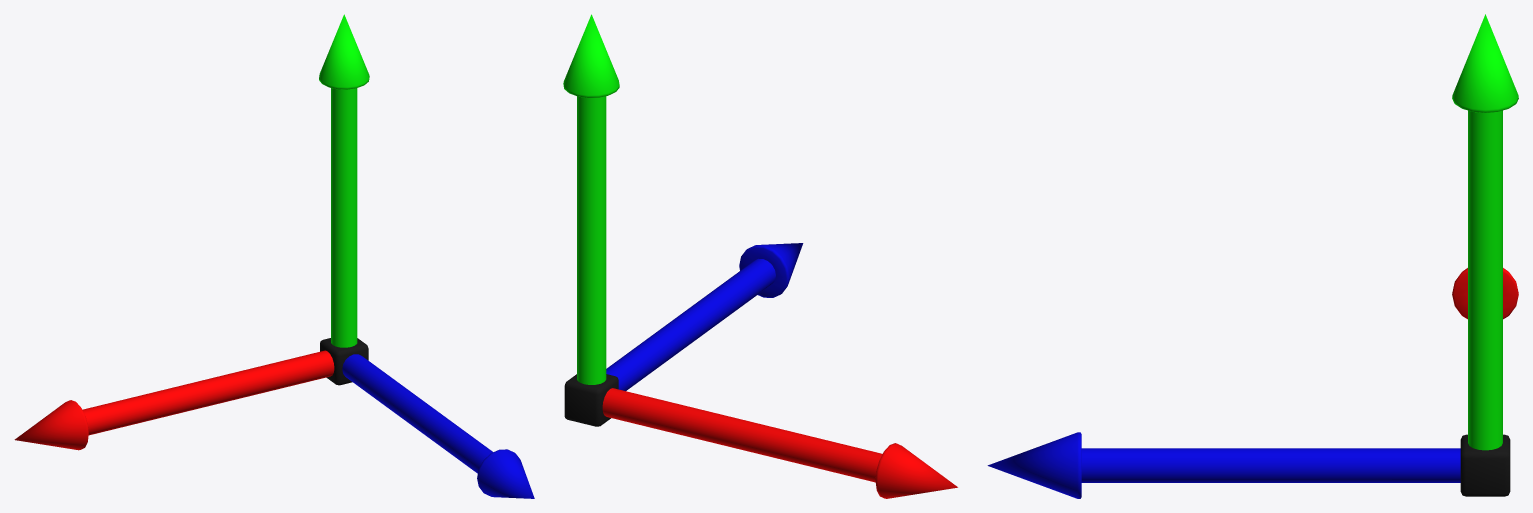
The model's file is position_handle.fbx.
The picture shows the model from 3 angles, left to right: view 1: azimuth 30°, elevation 25°; view 2: azimuth 150°, elevation 25°; view 3: azimuth 270°, elevation 25°; orthographic projection. The views are drawn at different scales.
Parts seen in each view (by area): view 1: position_handle; view 2: position_handle; view 3: position_handle.
Boxes of the visible parts, bbox=[...] form: position_handle: bbox=[14, 14, 534, 498]; position_handle: bbox=[563, 14, 957, 498]; position_handle: bbox=[987, 14, 1518, 498].
Size of the model in its own units: 107 by 107 by 107.
